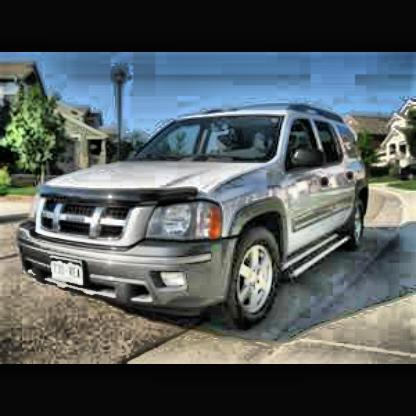Isuzu Ascender SUV 2008: (12, 103, 372, 327)
